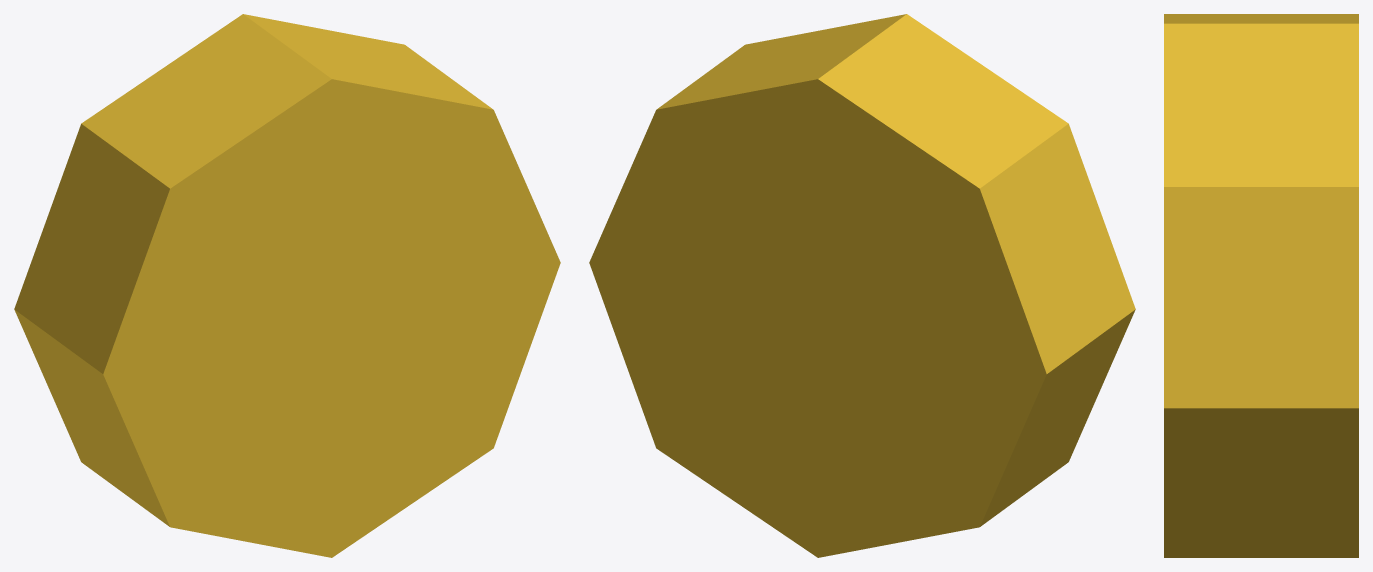
File: sequenceButton.fbx
3 views of the same model, side by side, from view 1: azimuth 30°, elevation 25°; view 2: azimuth 150°, elevation 25°; view 3: azimuth 270°, elevation 25° (orthographic). The views are drawn at different scales.
Parts seen in each view (by area): view 1: Sequence Button; view 2: Sequence Button; view 3: Sequence Button.
Boxes of the visible parts, x1,y1,x2,y2 form: Sequence Button: (14, 14, 560, 557); Sequence Button: (589, 14, 1135, 557); Sequence Button: (1164, 14, 1358, 557).
Bounding box in the file's own units: 18.46 × 6.22 × 18.46.
